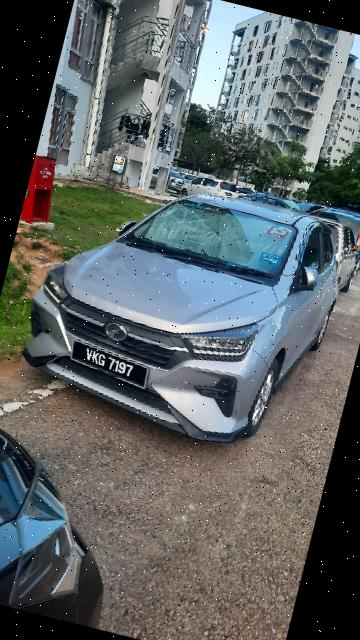License_Plate: (64, 334, 162, 395)
car: (6, 151, 360, 470)
